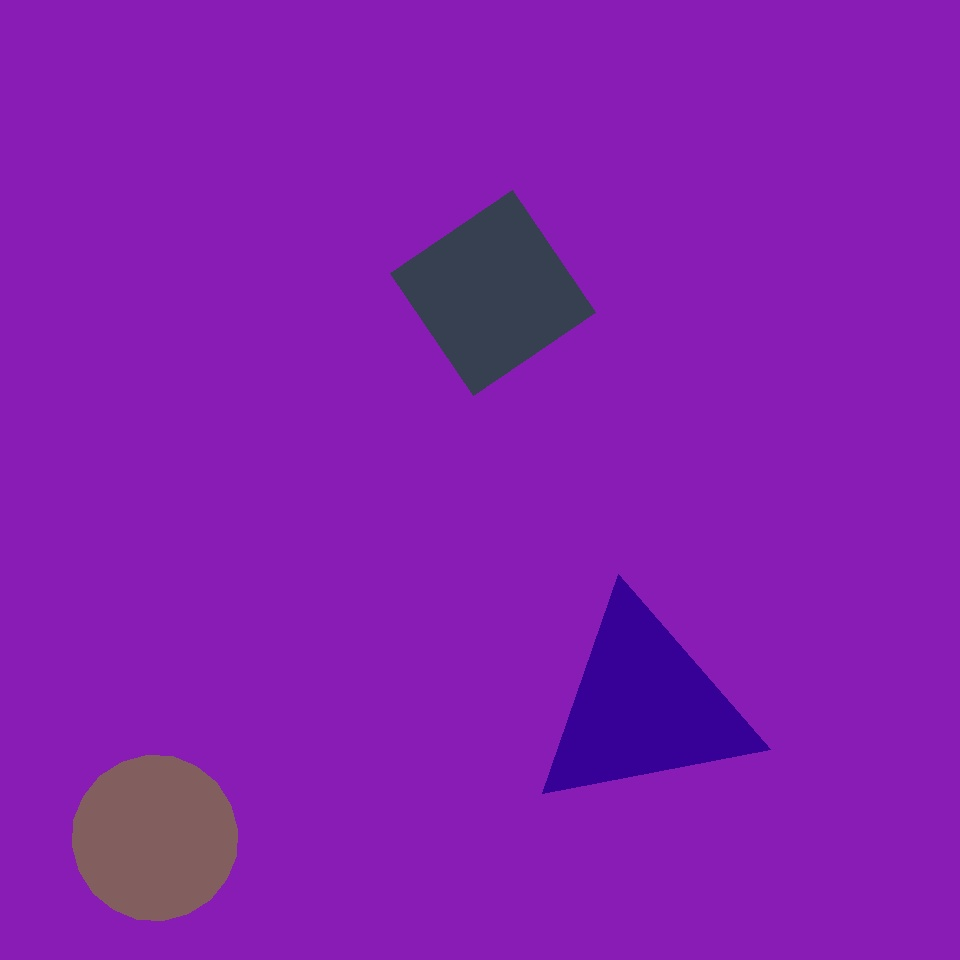circle: (555, 310, 804, 546), (530, 597, 758, 816)
square: (390, 191, 596, 396)
triangle: (41, 26, 251, 235), (73, 756, 238, 920)
